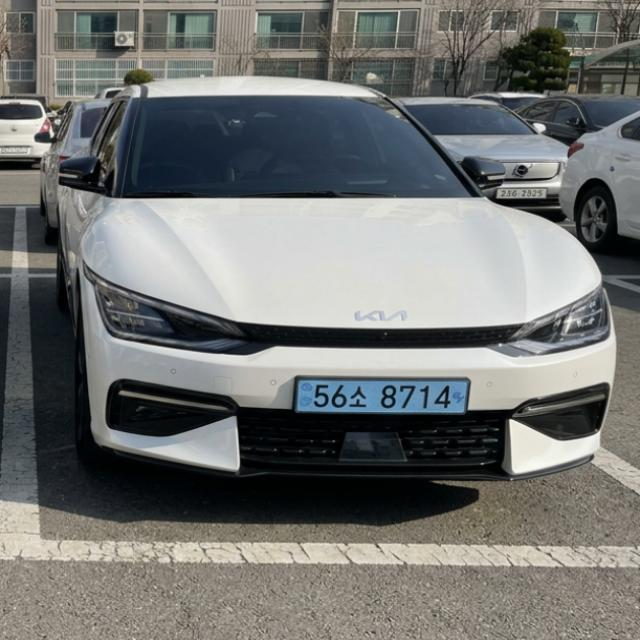car: (278, 368, 490, 430)
carev: (451, 368, 471, 420), (292, 371, 313, 420)
